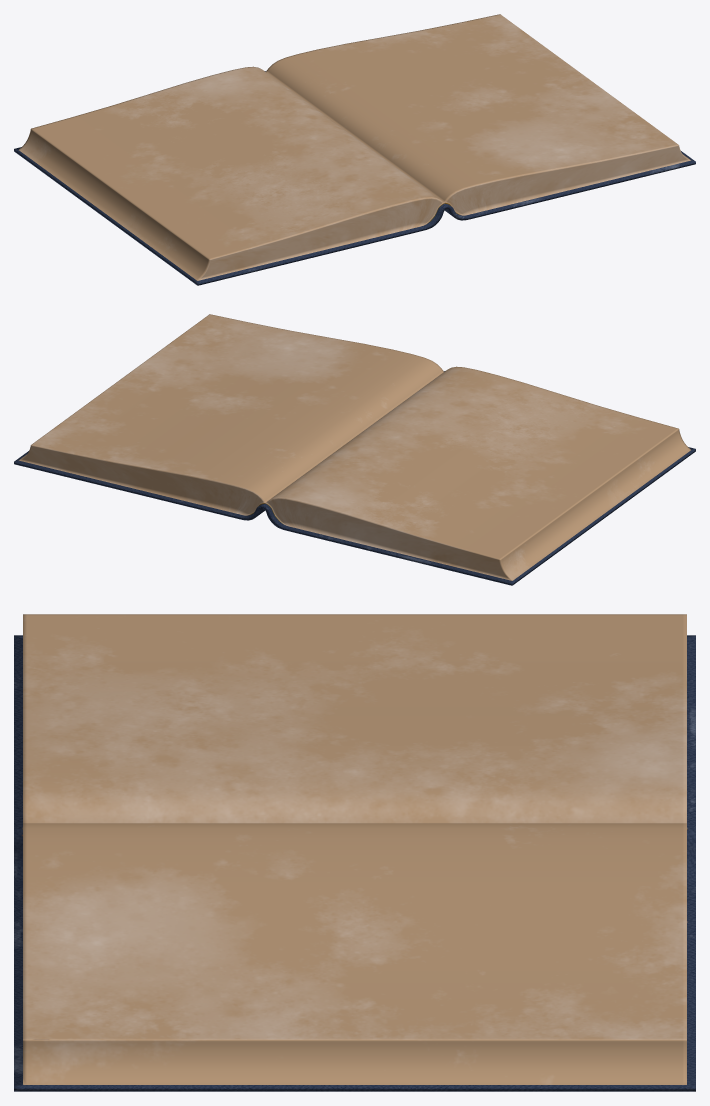
Rendered from book amborado open blank.glb.
The picture shows the model from 3 angles, top to bottom: view 1: azimuth 30°, elevation 25°; view 2: azimuth 150°, elevation 25°; view 3: azimuth 270°, elevation 25°; orthographic projection. The views are drawn at different scales.
Visible parts, largest first — view 1: open_book_Cube.001; view 2: open_book_Cube.001; view 3: open_book_Cube.001.
Part boxes in pixels (bbox=[...]): open_book_Cube.001: bbox=[14, 14, 695, 285]; open_book_Cube.001: bbox=[14, 314, 695, 585]; open_book_Cube.001: bbox=[14, 614, 695, 1091].
Bounding box in the file's own units: 0.4059 × 0.0237 × 0.2591.
Materials: 1 (1 with a texture image).
